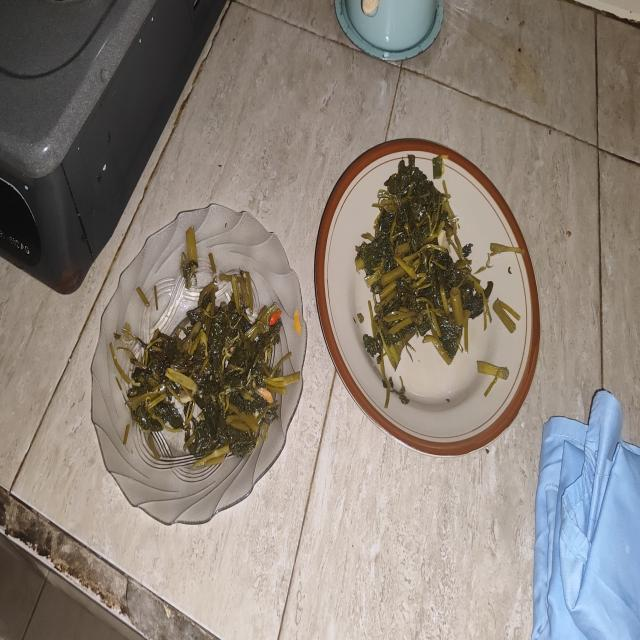tumis_kangkung: (128, 271, 292, 466), (356, 156, 492, 370)
